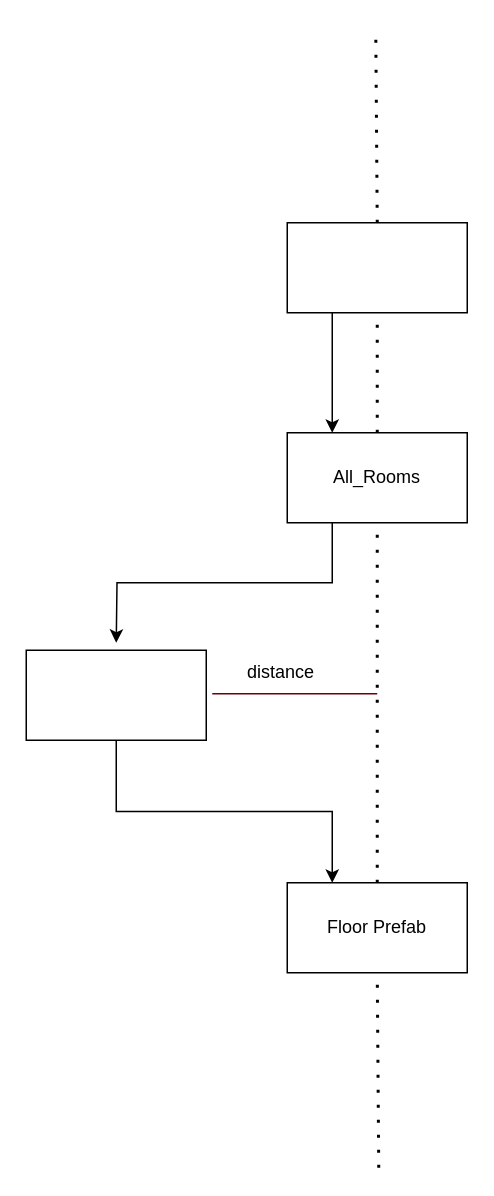
Image size: 494x1196. Some labels were removed from this diagram. Here are the shapes that lost their labels. From the top down, the centre of each, then its label:
At point 376,267: "AR Floor".
At point 115,694: "Offset".
